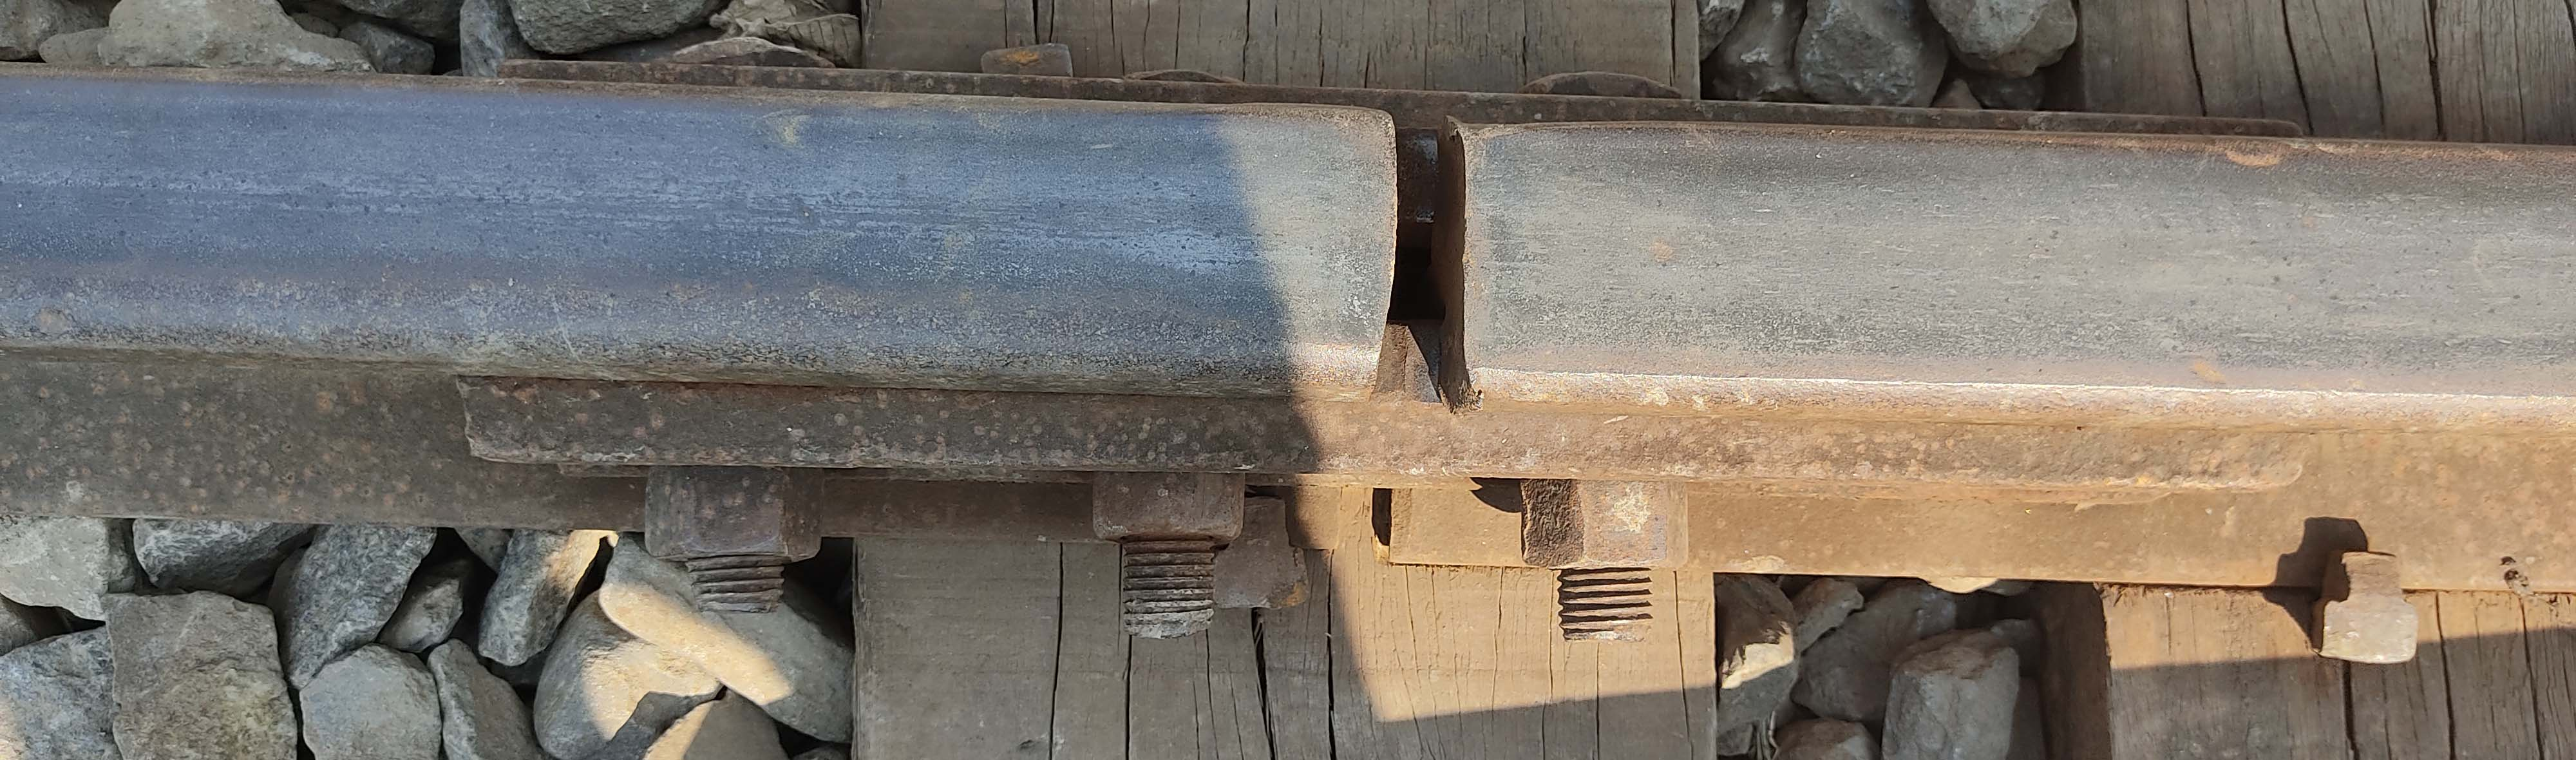error2: (1331, 92, 1580, 478)
